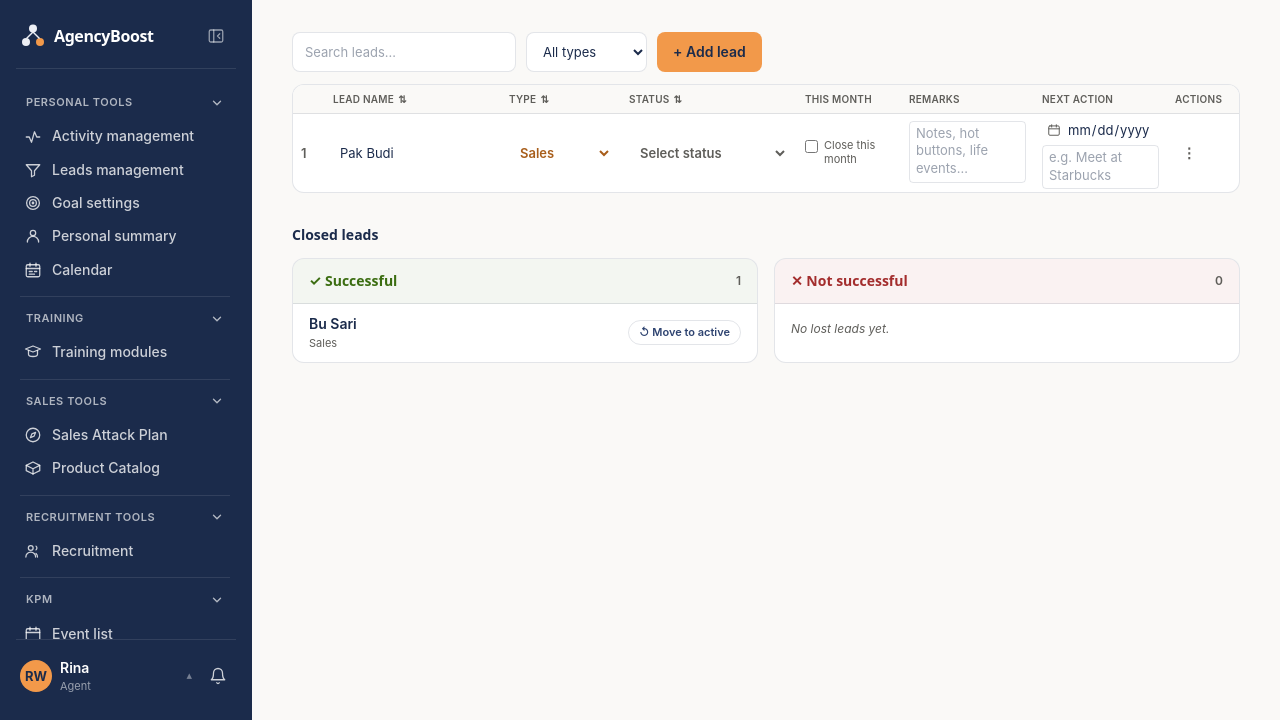
it: LeadsTable, for a coachee (P11-T8 AC-7) › P11-T8 AC-7, P13.1-T4 AC-9 names somebody else’s change in the lead’s details, without ADR-0084’s office when the name is gone
Expected: the field showing "Pak Budi" is shown, left=333, top=141, right=493, bottom=165
Click the button named "Actions for Pak Budi": (1189, 153) left=1175, top=139, right=1203, bottom=167
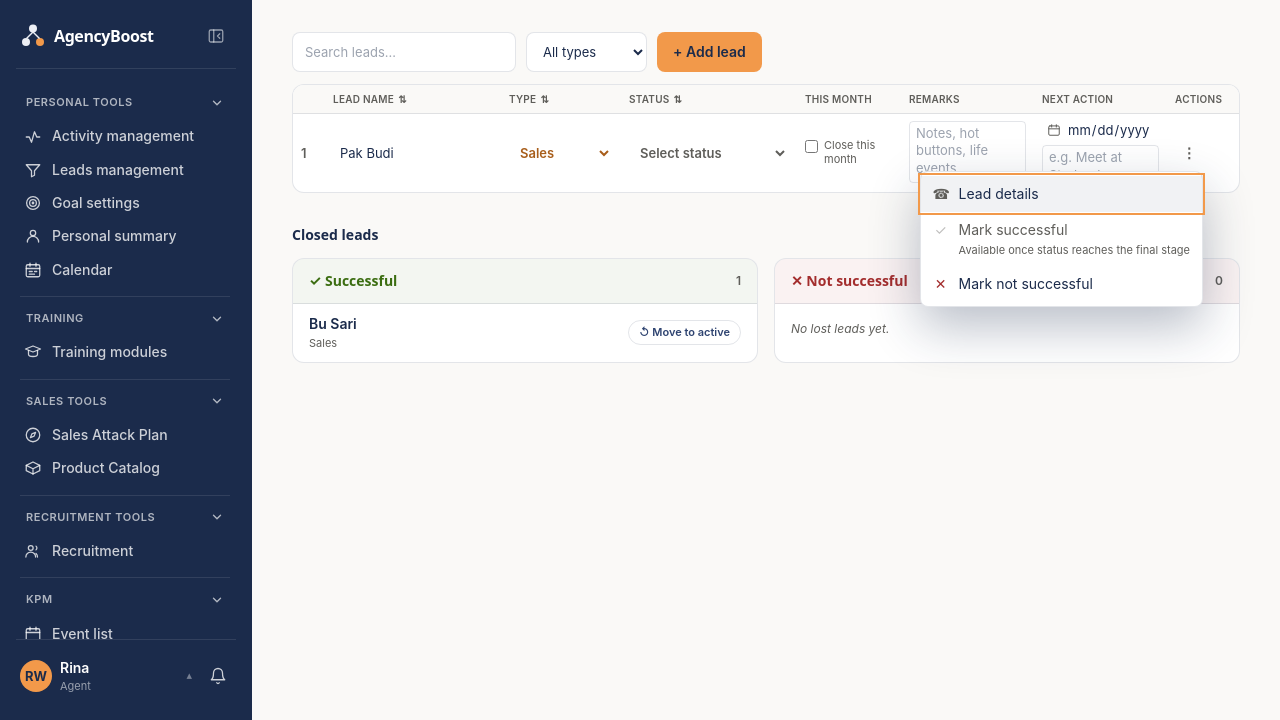
Click the menu item "☎ Lead details": (999, 194) left=921, top=176, right=1202, bottom=212
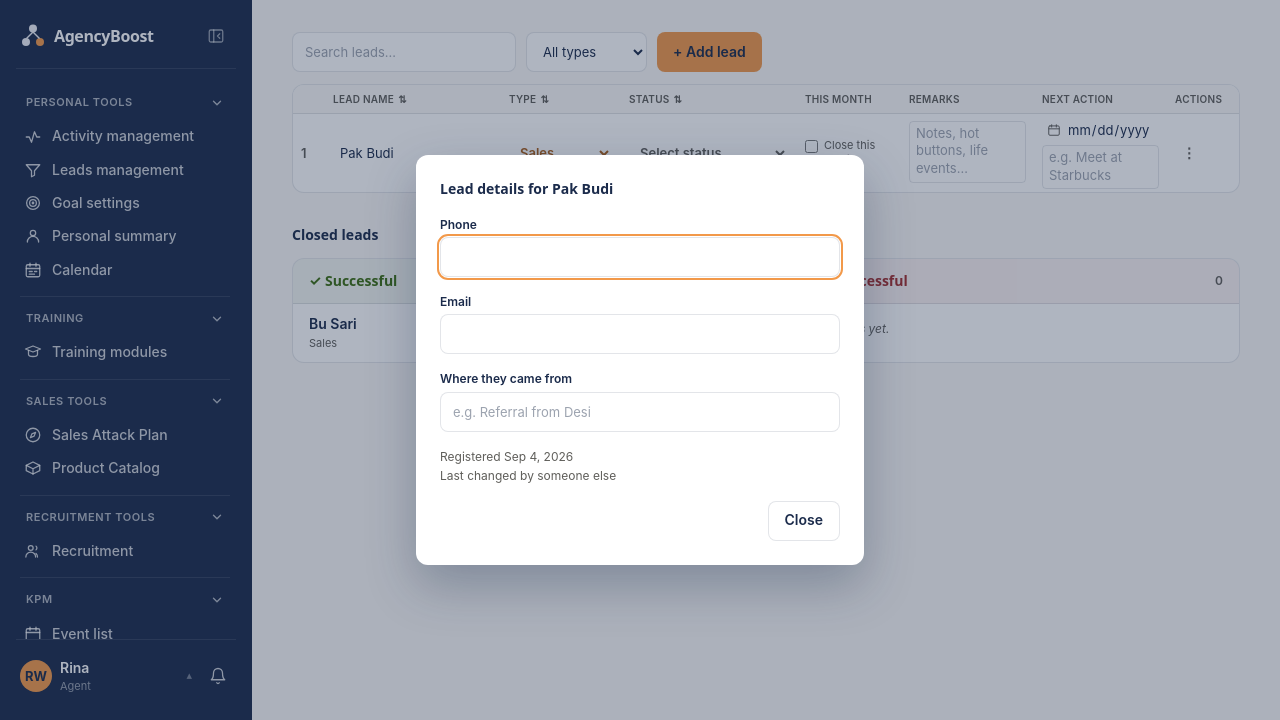
Expected: the text "Last changed by someone else" is shown, left=440, top=468, right=616, bottom=483
